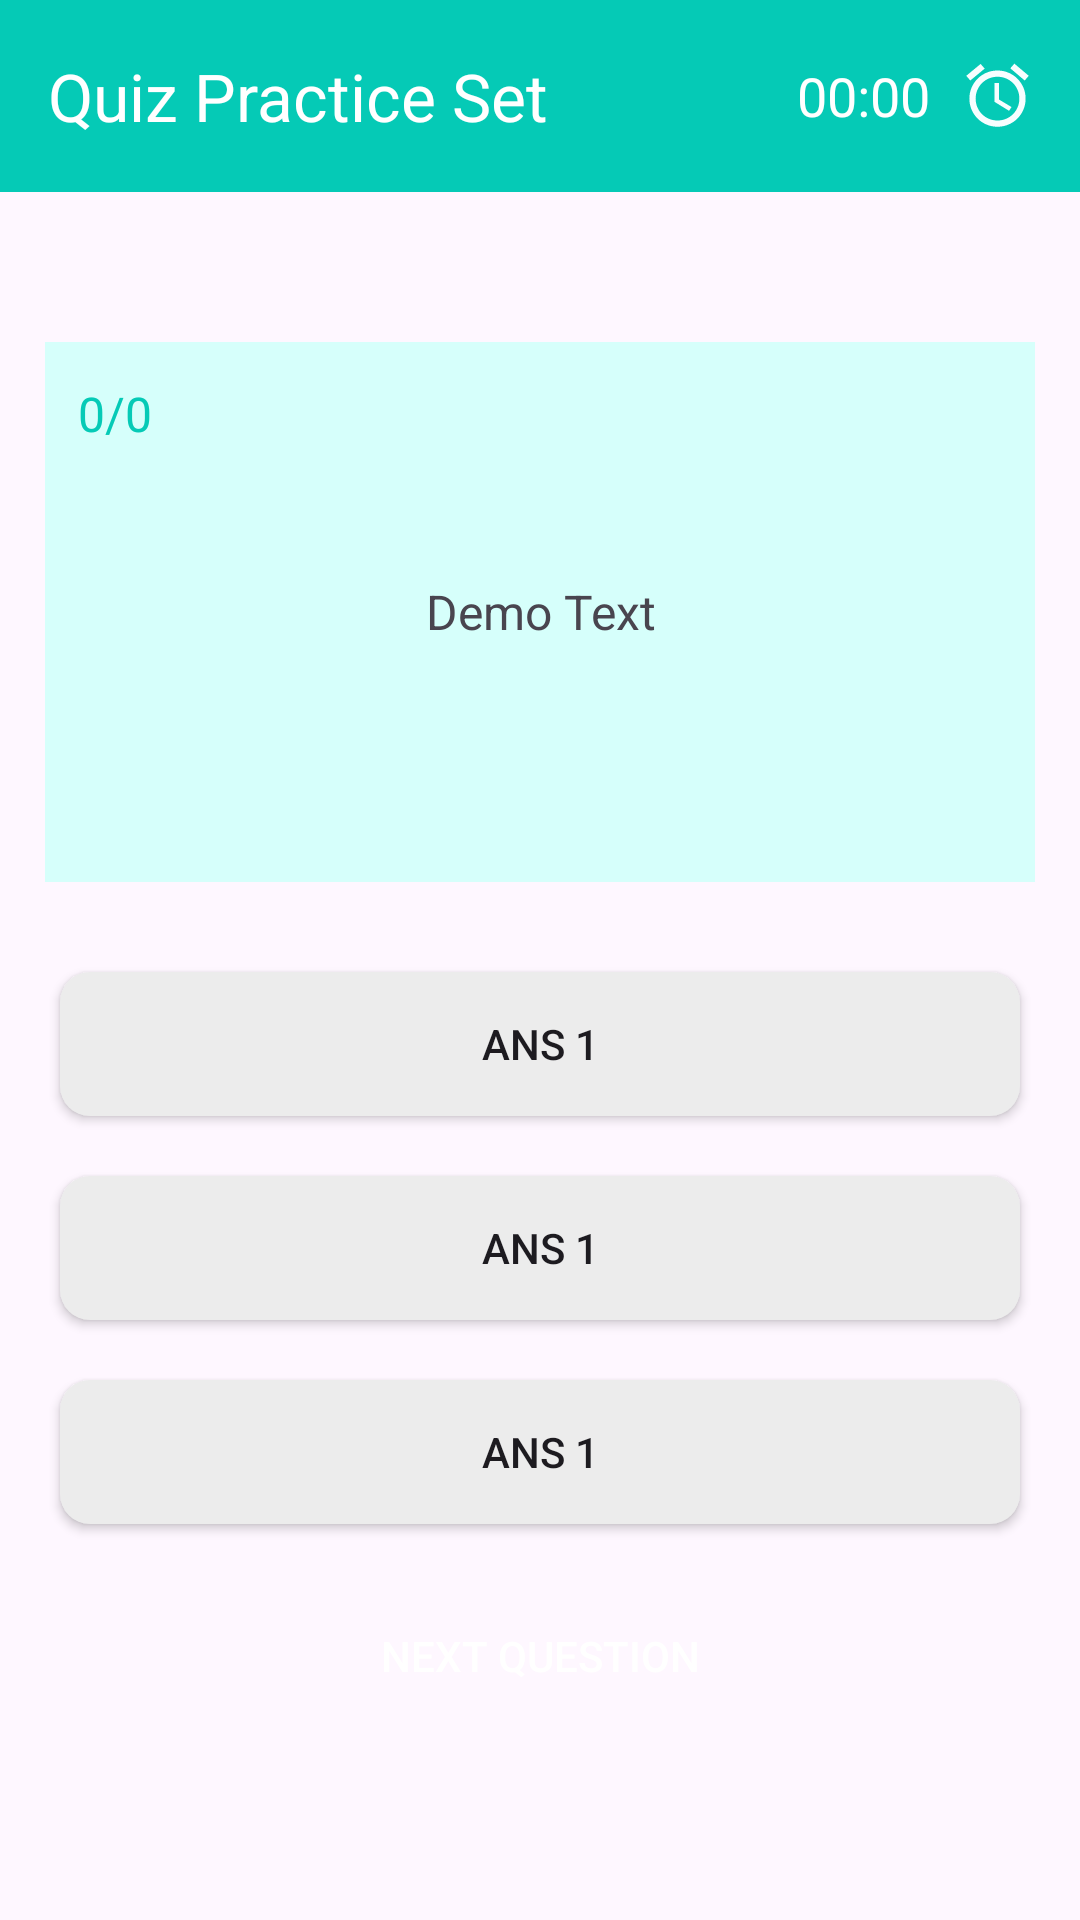

Point at icon controls on the screen. Image size 1080 × 1920, points as (x=x, y=y).
clock timer: (x=997, y=95)
